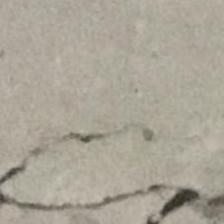Crack: (0, 126, 224, 224)
